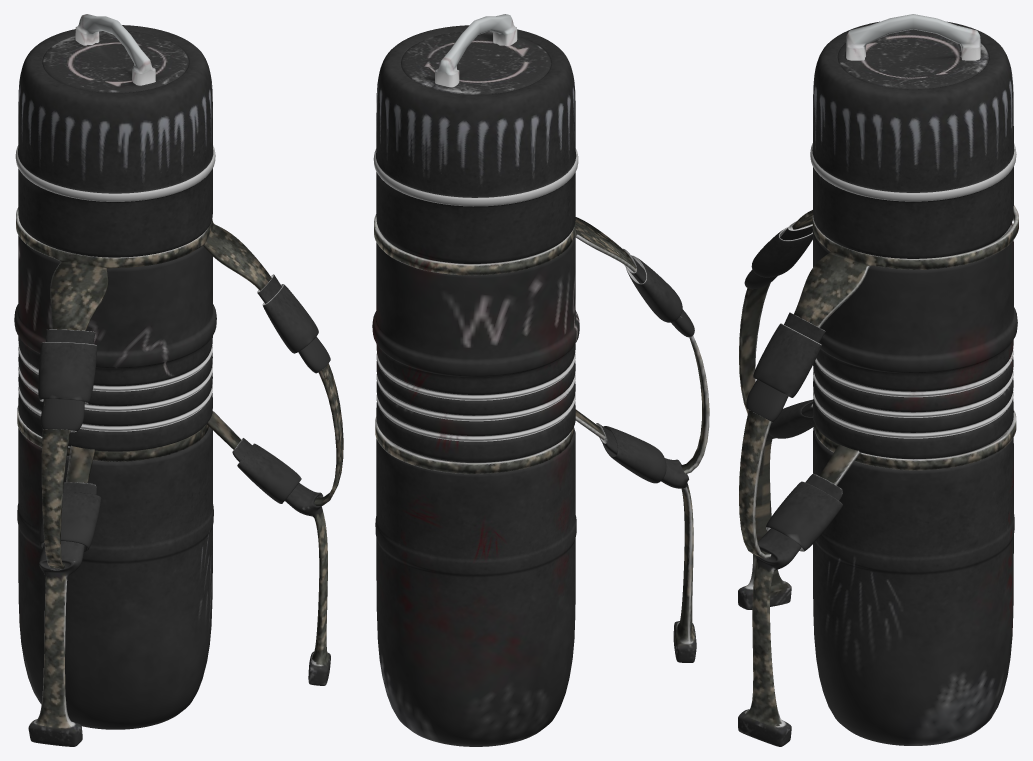
3 renders of one model, left to right at view 1: azimuth 30°, elevation 25°; view 2: azimuth 150°, elevation 25°; view 3: azimuth 270°, elevation 25°, orthographic. The views are drawn at different scales.
Parts seen in each view (by area): view 1: Tubus; view 2: Tubus; view 3: Tubus.
Part boxes in pixels (x1,y1,x2,y2): Tubus: (14, 14, 343, 746); Tubus: (372, 14, 709, 746); Tubus: (738, 14, 1018, 746).
Bounding box in the file's own units: 15762 × 34114 × 12340.
